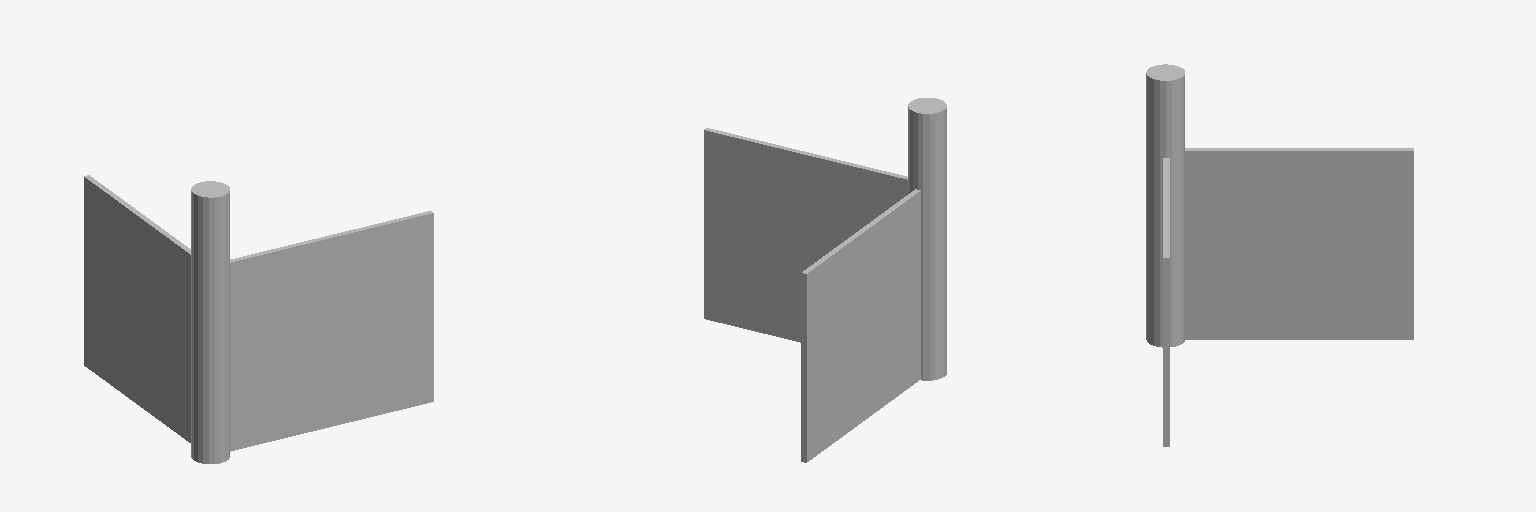
The model's file is walldouble15.obj.
3 renders of one model, left to right at view 1: azimuth 30°, elevation 25°; view 2: azimuth 150°, elevation 25°; view 3: azimuth 270°, elevation 25°, orthographic.
Parts seen in each view (by area): view 1: walldouble15; view 2: walldouble15; view 3: walldouble15.
Boxes of the visible parts, box(x1,y1,x2,y2) form: walldouble15: box(84, 175, 433, 463); walldouble15: box(704, 98, 946, 462); walldouble15: box(1146, 64, 1413, 446).
Bounding box in the file's own units: 23.06 × 24.63 × 22.39.